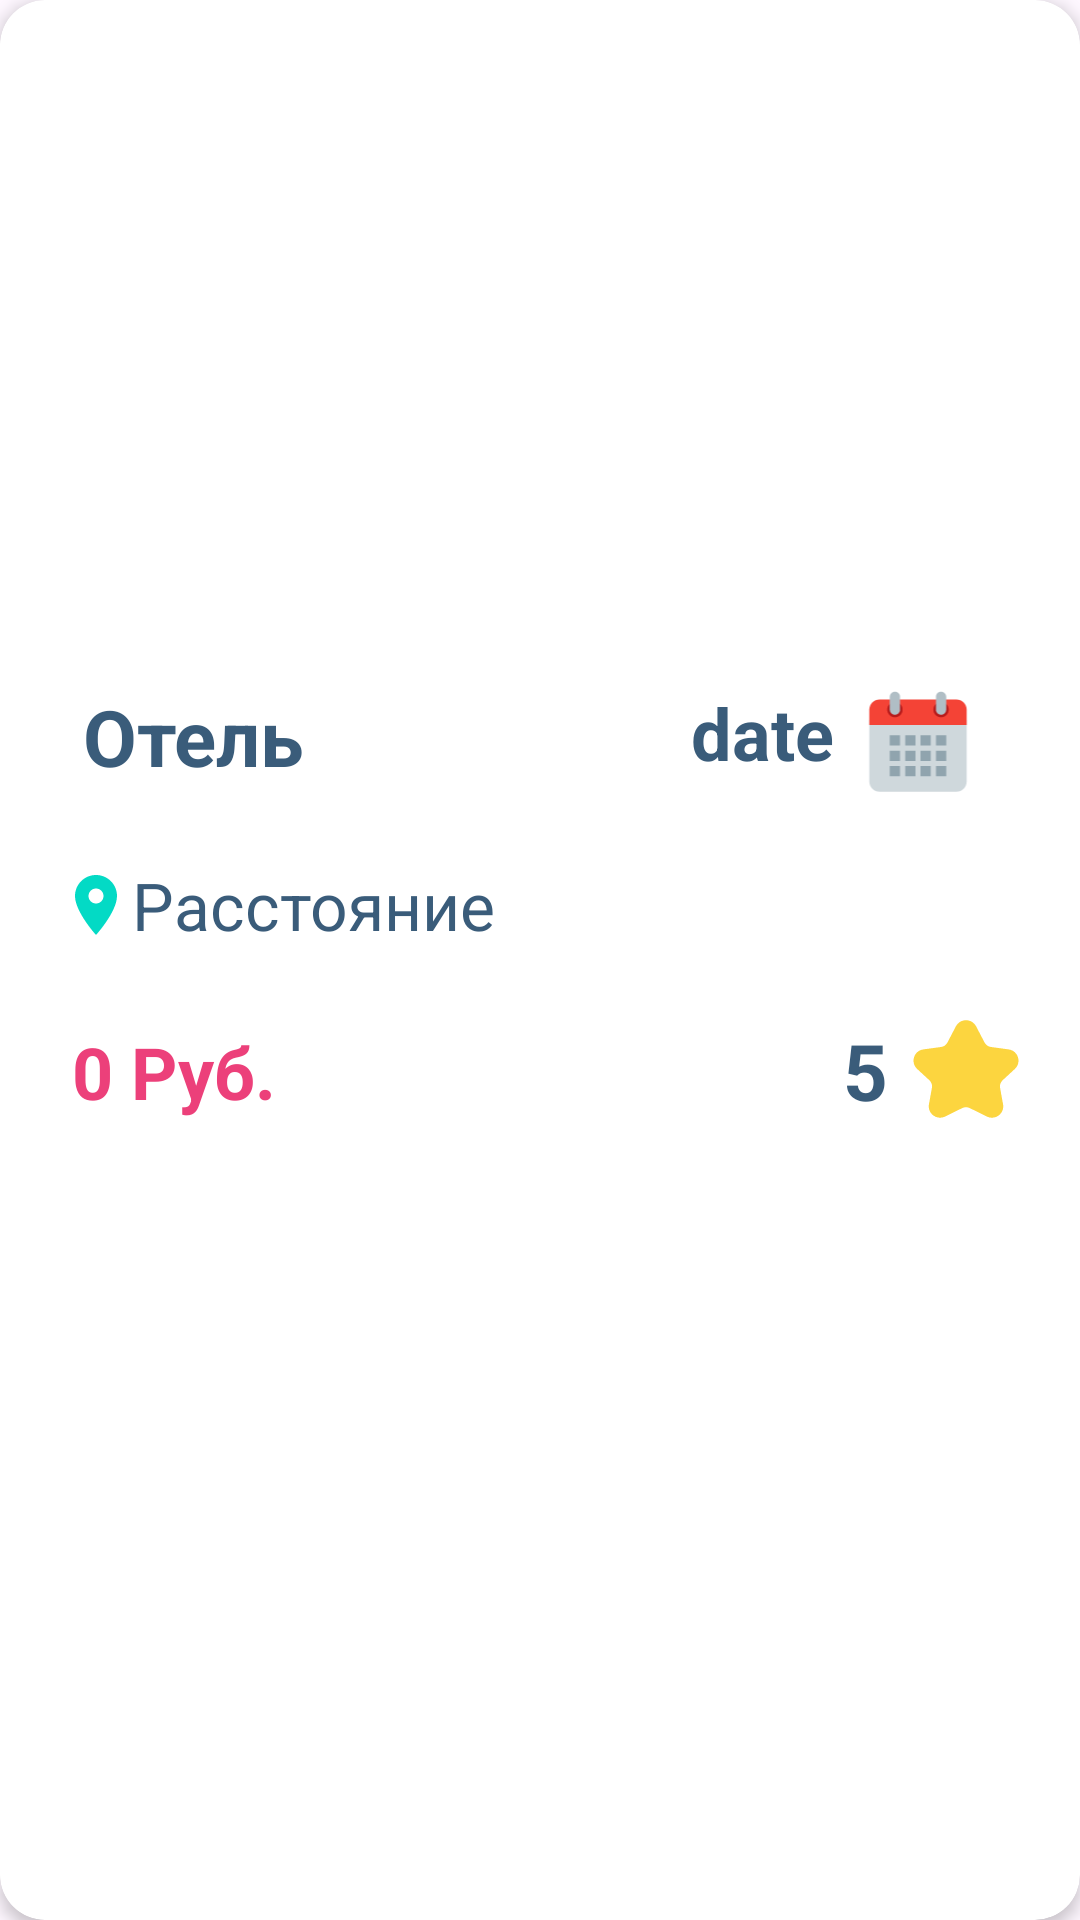

Locate icon controls on the screen. Image size 1080 × 1920, boxes as region(x1, y1, x2, y2).
calendar: region(869, 692, 967, 792)
star: region(913, 1020, 1019, 1118)
